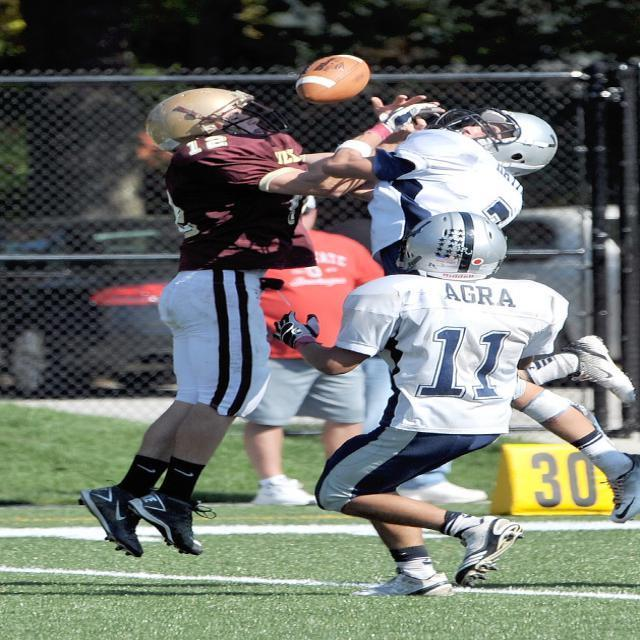football: (292, 28, 380, 105)
